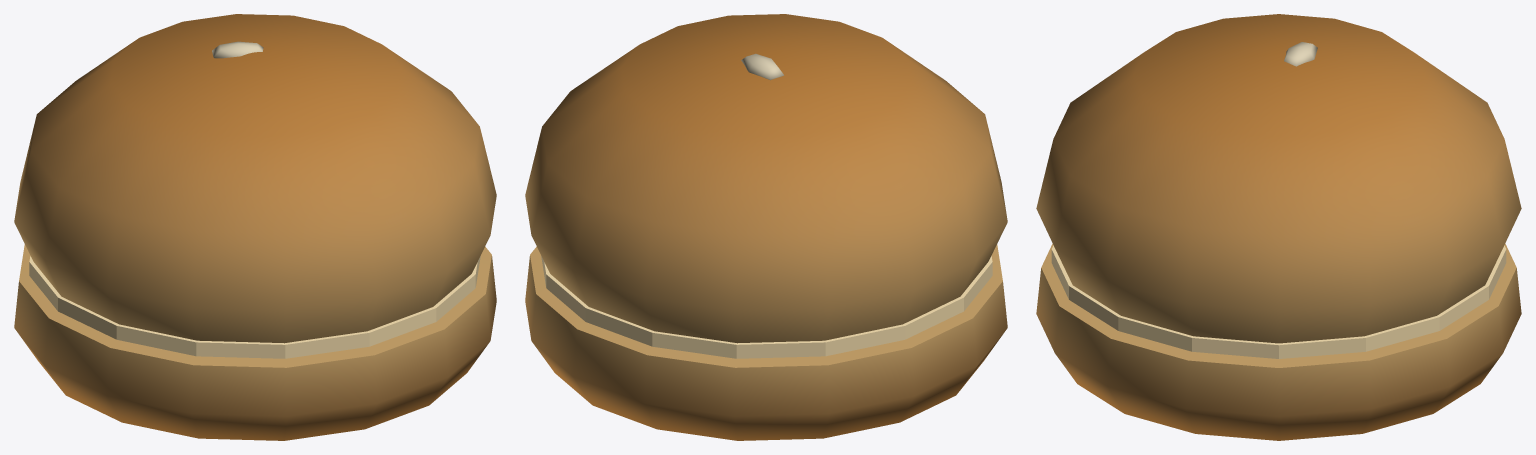
File: bun.glb
3 renders of one model, left to right at view 1: azimuth 30°, elevation 25°; view 2: azimuth 150°, elevation 25°; view 3: azimuth 270°, elevation 25°, orthographic.
Parts seen in each view (by area): view 1: bun; view 2: bun; view 3: bun.
Boxes of the visible parts, left/top/right/bottom form: bun: left=14, top=14, right=496, bottom=440; bun: left=525, top=14, right=1007, bottom=440; bun: left=1036, top=14, right=1521, bottom=440.
Size of the model in its own units: 0.38 by 0.2578 by 0.38.
